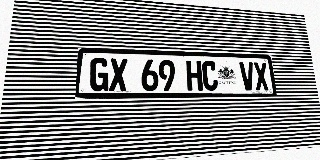6: (141, 59, 159, 91)
9: (159, 60, 176, 91)
C: (202, 61, 218, 91)
G: (89, 58, 109, 91)
H: (186, 60, 203, 91)
V: (239, 62, 256, 90)
X: (109, 58, 127, 91), (253, 62, 269, 90)
